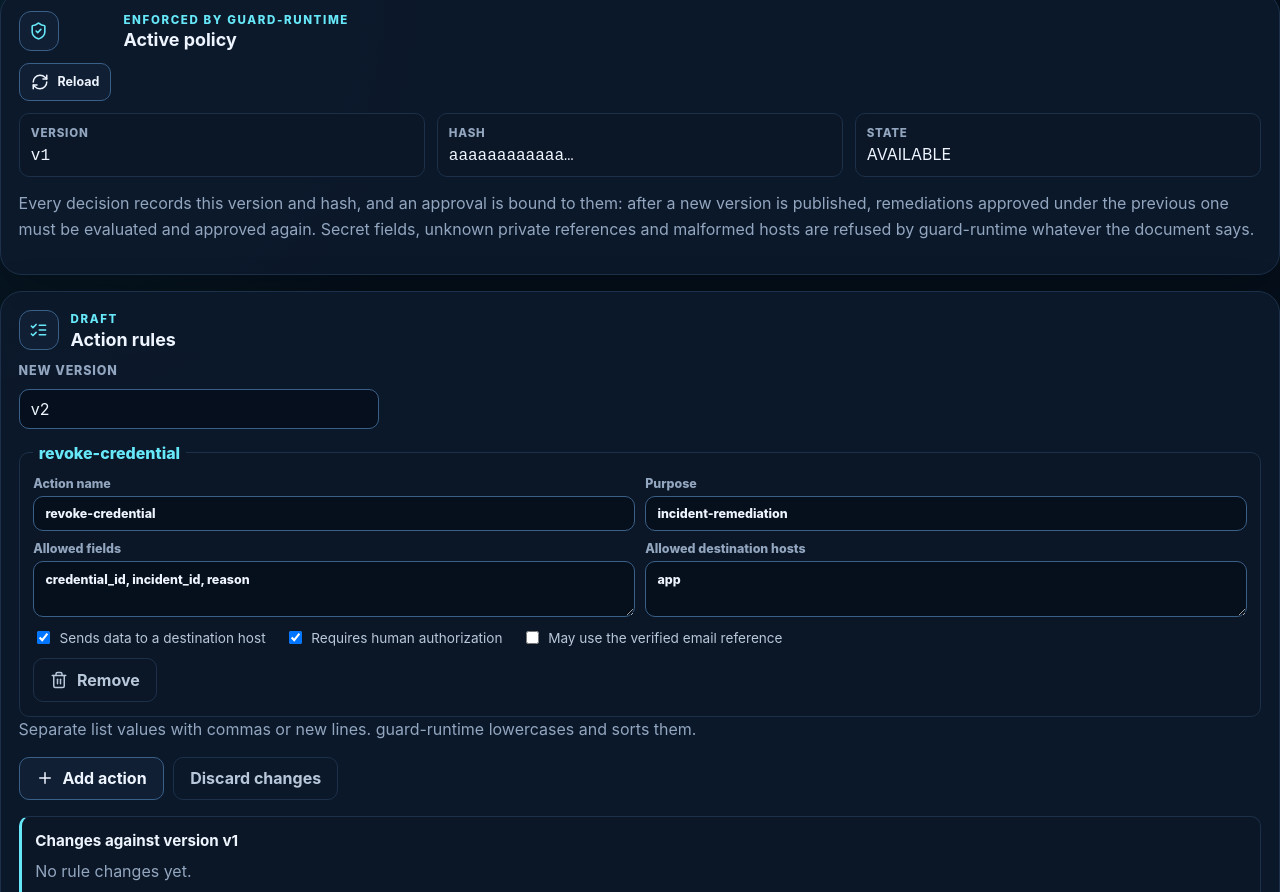
Test: PolicyEditor › surfaces a concurrent change and hands an expired session back
In the text box labelled "Allowed fields": (334, 589) [33,561,635,617], type ", summary"
(page scrolled)
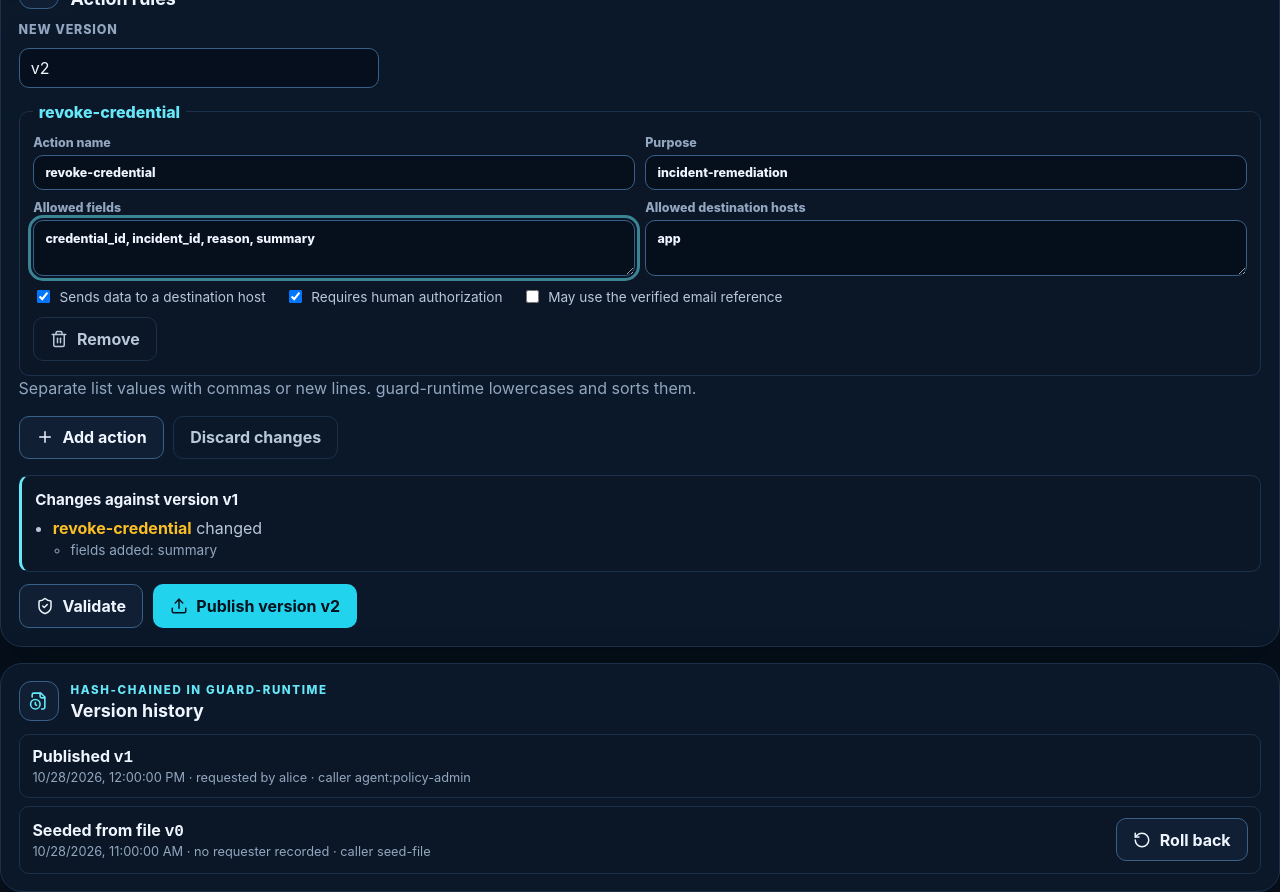
Click the button "Publish version v2": (255, 606) [153,584,357,628]
(page scrolled)
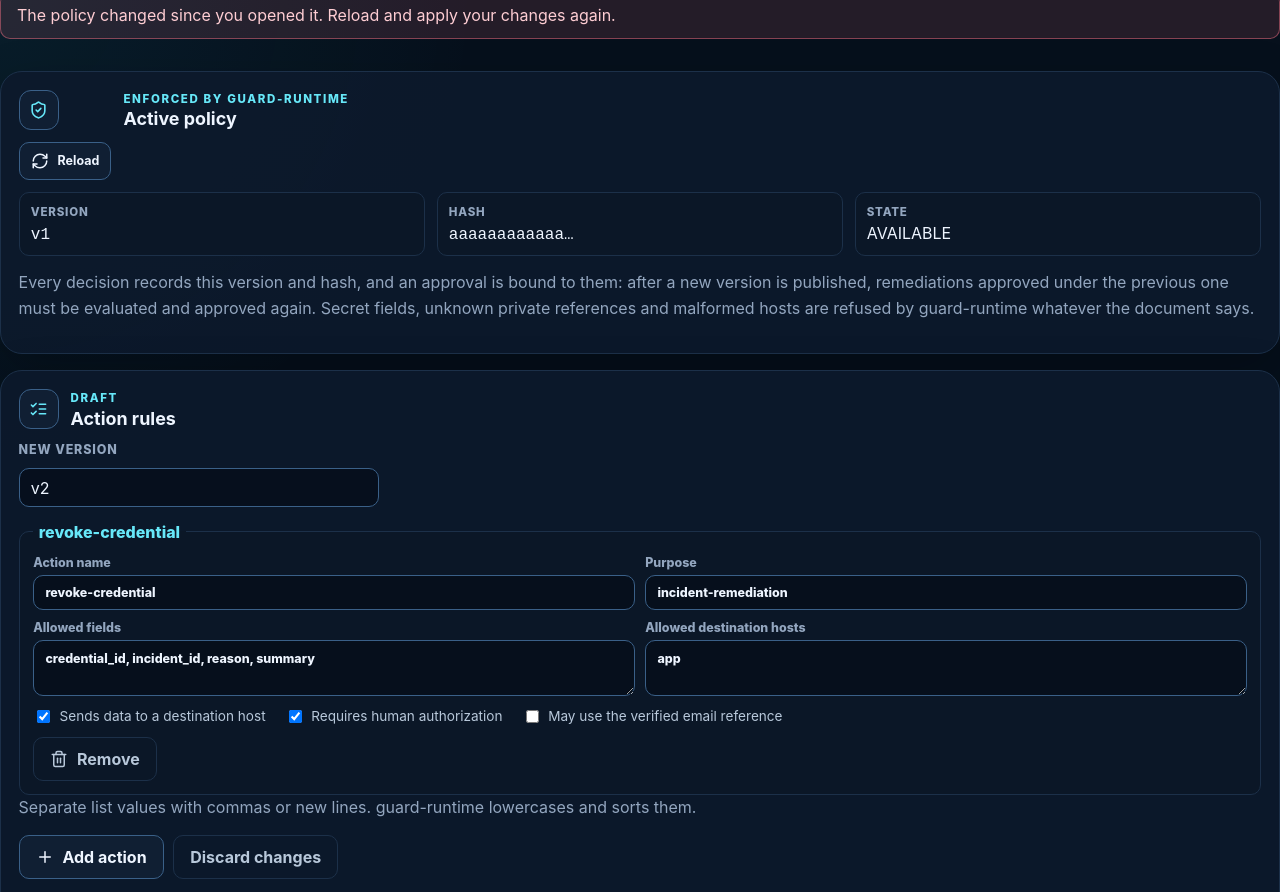
Check: the message shows "The policy changed since you opened it.", box [17,6,616,26]
